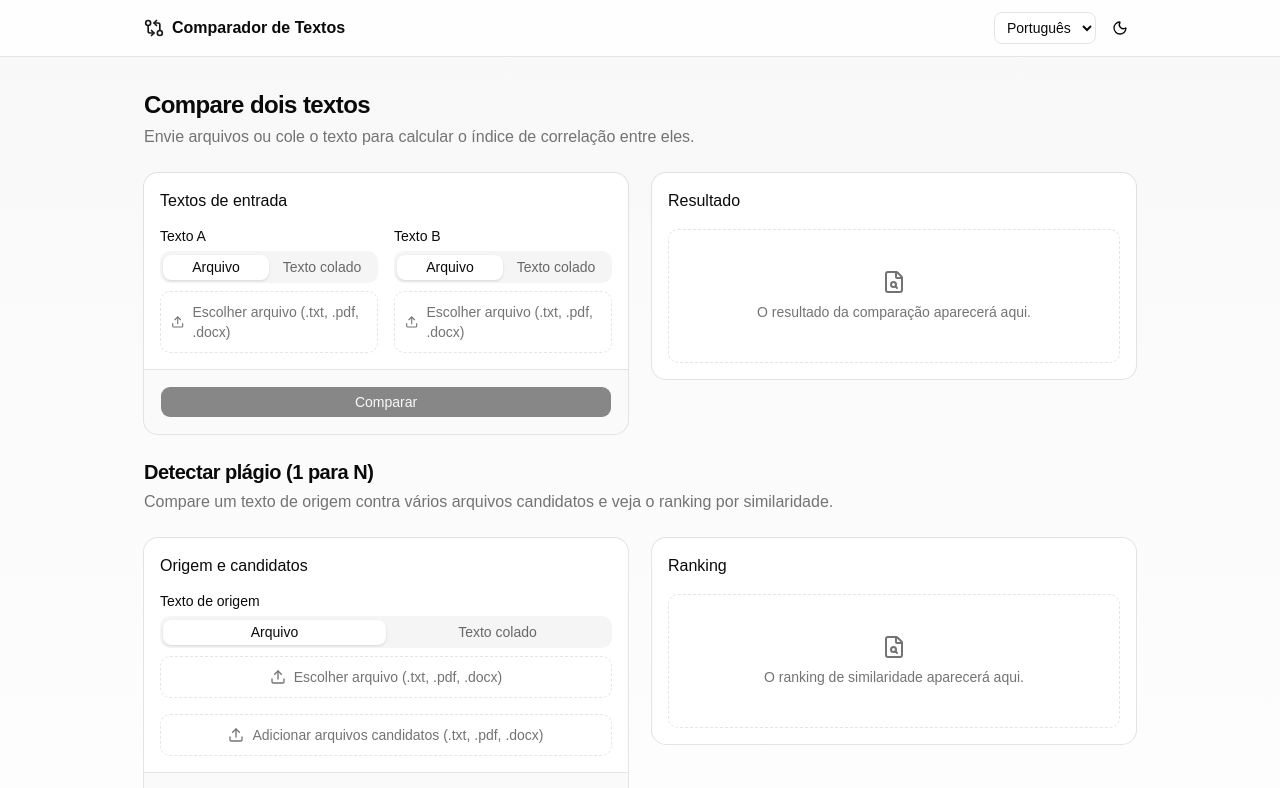
Test: App › displays an error message when the comparison fails
This screenshot has width=1280, height=788.
Click the tab "Texto colado" below "Texto A" at [322, 267], box top-left (269, 254), bottom-right (375, 280)
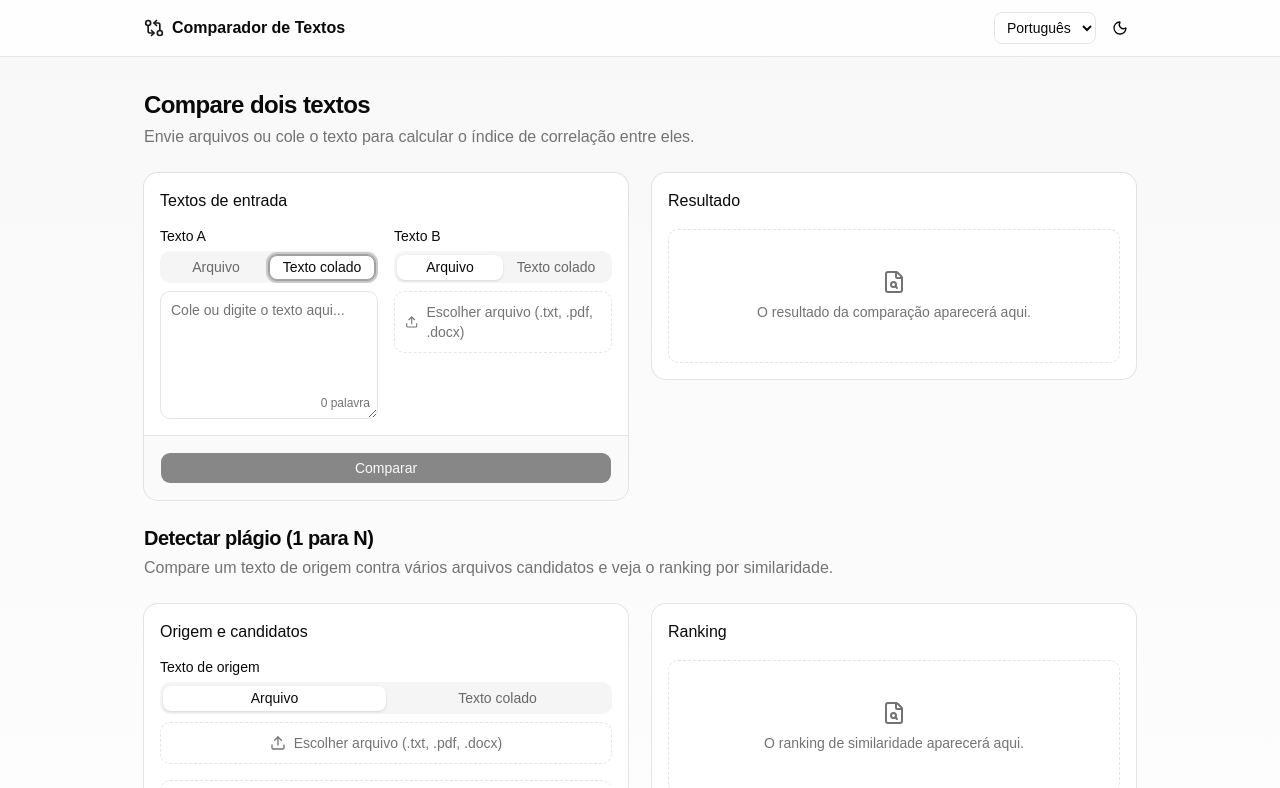
Click the tab "Texto colado" below "Texto B" at [556, 267], box top-left (503, 254), bottom-right (609, 280)
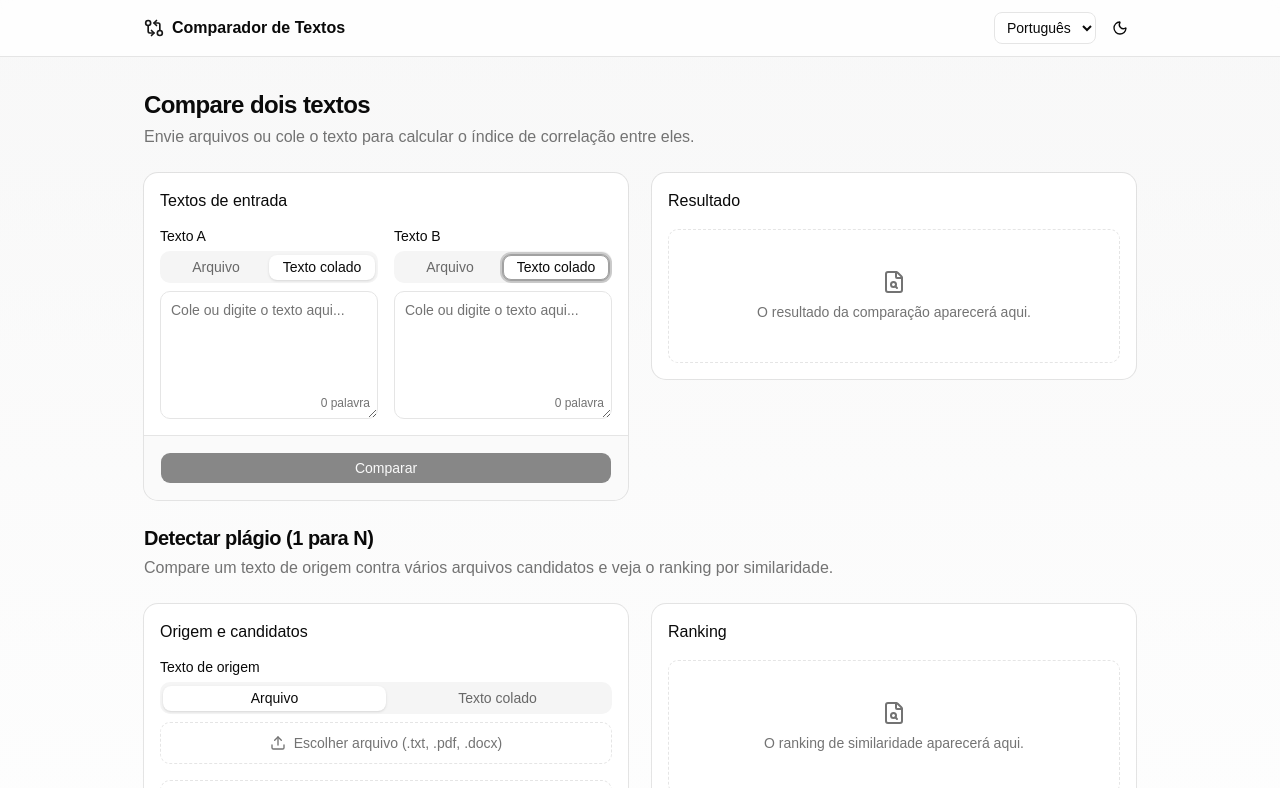
Type "texto A" into the text box with placeholder "Cole ou digite o texto aqui..." below "Texto A" at [269, 355], box top-left (160, 291), bottom-right (378, 419)
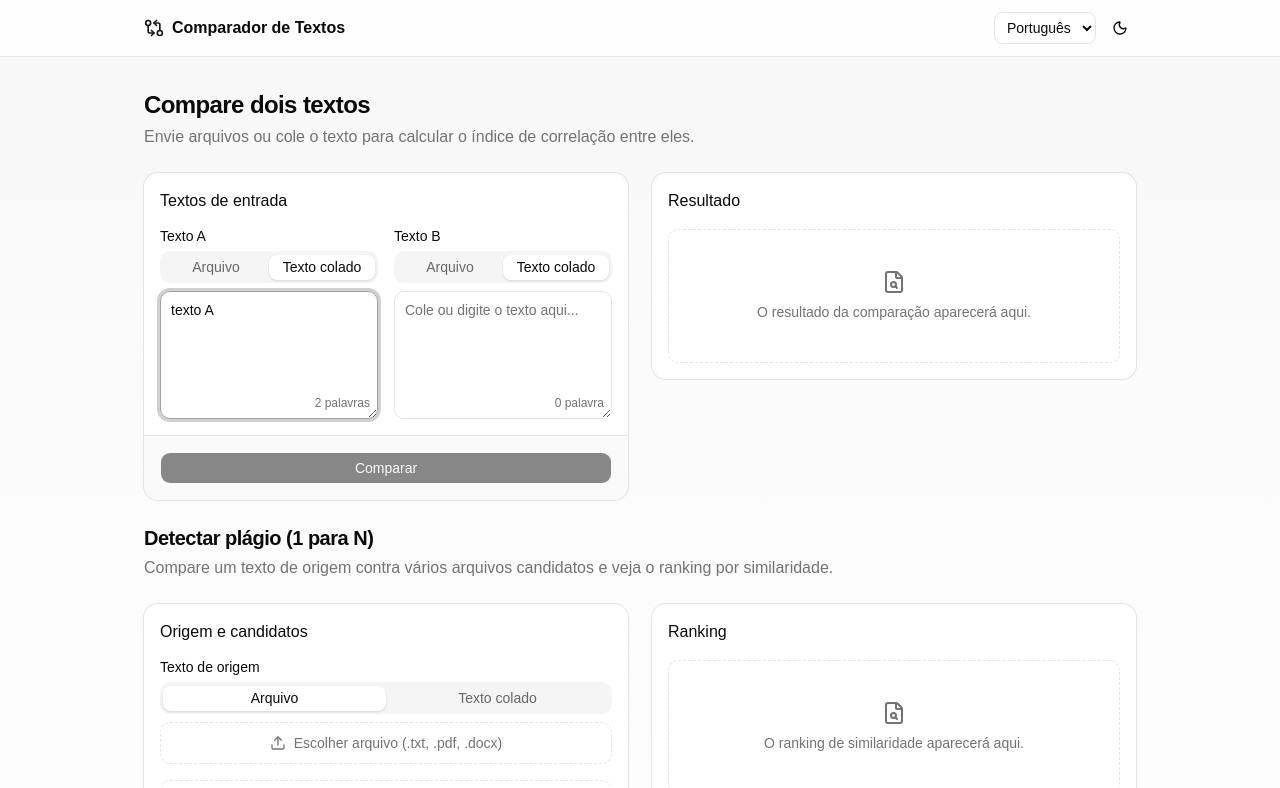
Type "texto B" into the text box with placeholder "Cole ou digite o texto aqui..." at [503, 355], box top-left (394, 291), bottom-right (612, 419)
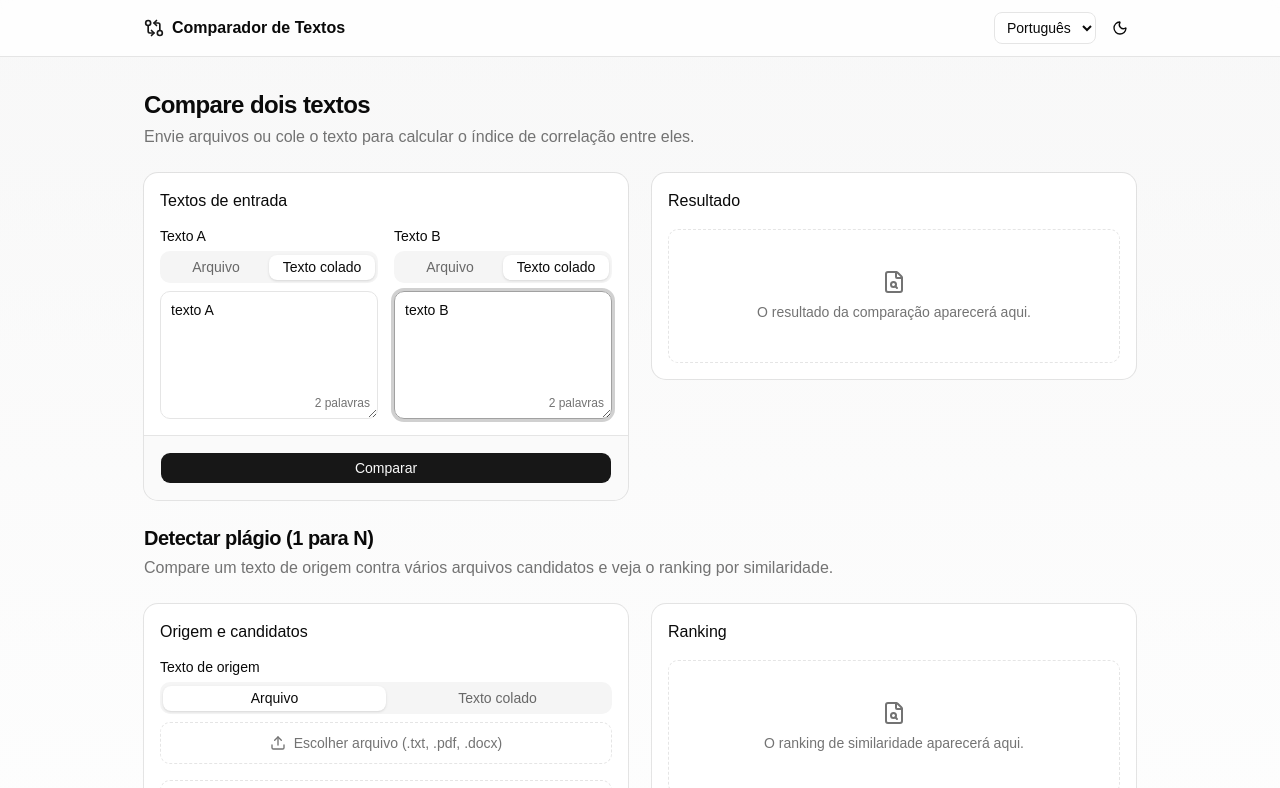
Click the button "Comparar" at [386, 468], box top-left (160, 452), bottom-right (612, 484)
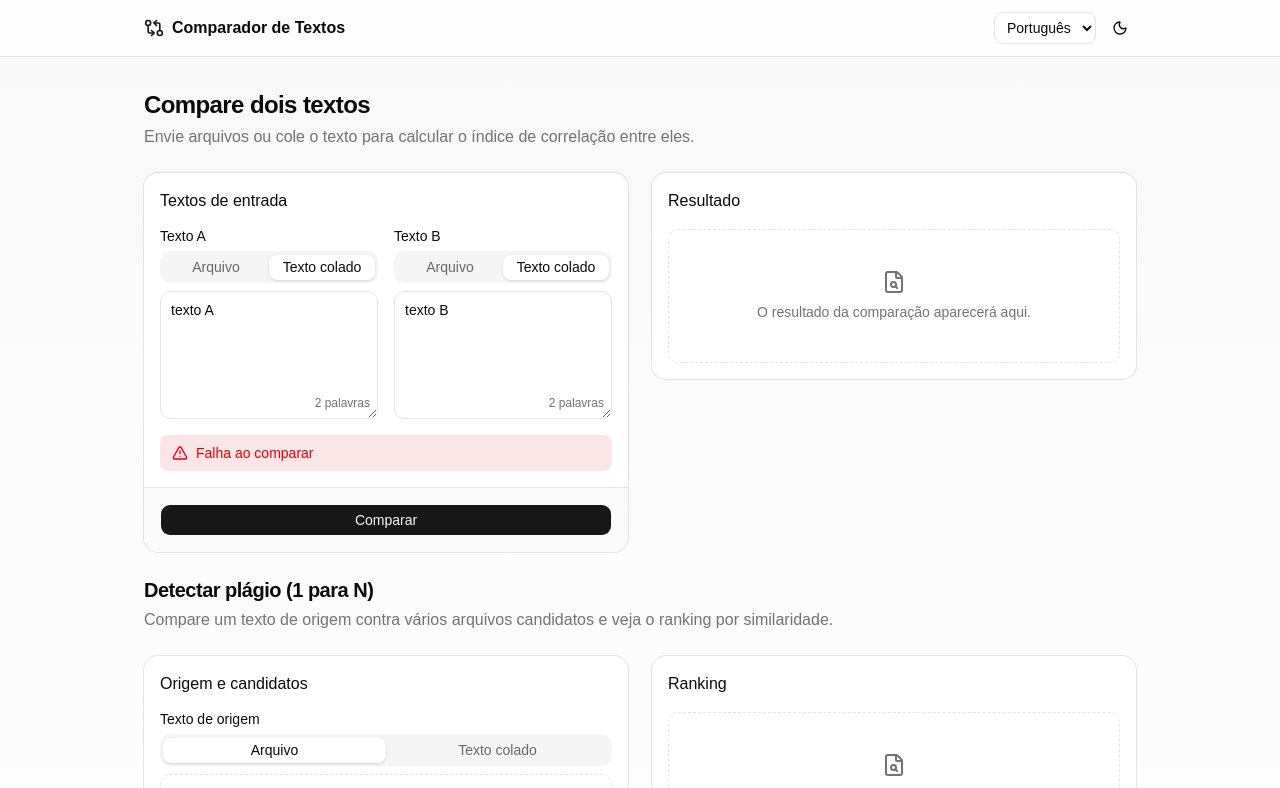
expect the text "Falha ao comparar" is shown: met, box top-left (160, 435), bottom-right (612, 471)
